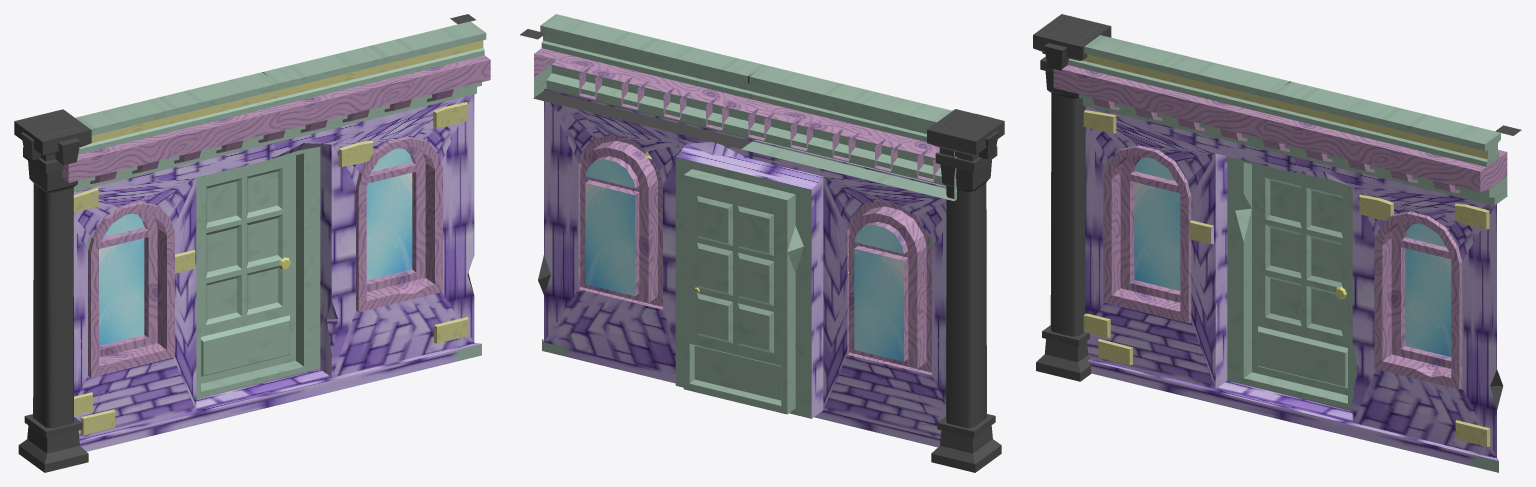
The model's file is House_Door_05_1Pillar.fbx.
3 views of the same model, side by side, from view 1: azimuth 30°, elevation 25°; view 2: azimuth 150°, elevation 25°; view 3: azimuth 330°, elevation 25° (orthographic).
Parts seen in each view (by area): view 1: SM_Bld_Apartment_Door_02; view 2: SM_Bld_Apartment_Door_02; view 3: SM_Bld_Apartment_Door_02.
Part boxes in pixels (x1,y1,x2,y2): SM_Bld_Apartment_Door_02: [14, 14, 490, 472]; SM_Bld_Apartment_Door_02: [520, 14, 1004, 472]; SM_Bld_Apartment_Door_02: [1033, 14, 1521, 472].
Size of the model in its own units: 543 by 377 by 80.95.
